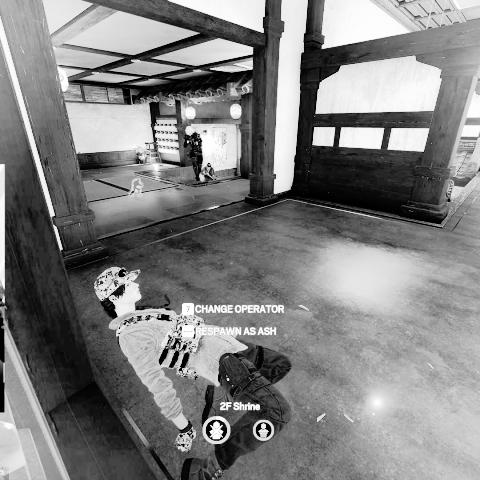Character: (93, 264, 294, 480), (183, 126, 204, 181), (201, 162, 216, 182)
Head: (94, 266, 145, 315), (185, 126, 194, 136), (207, 162, 211, 168)
